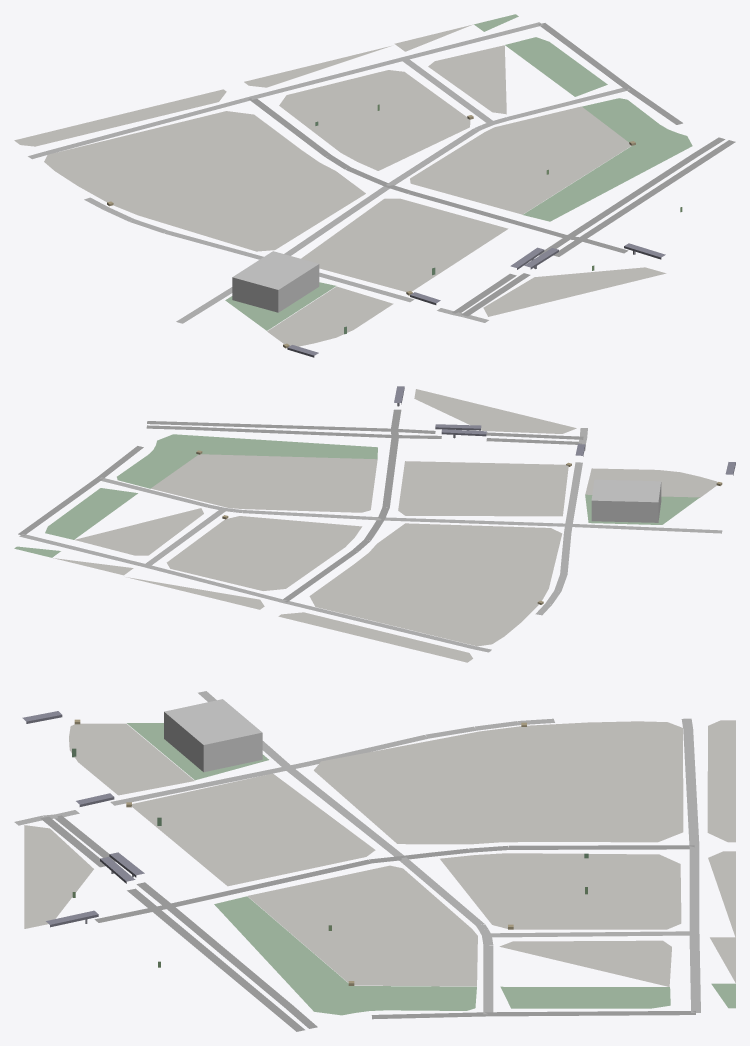
The picture shows the model from 3 angles, top to bottom: view 1: azimuth 30°, elevation 25°; view 2: azimuth 150°, elevation 25°; view 3: azimuth 270°, elevation 25°; orthographic projection. The views are drawn at different scales.
Bounding box in the file's own units: 579 × 22.33 × 507.
